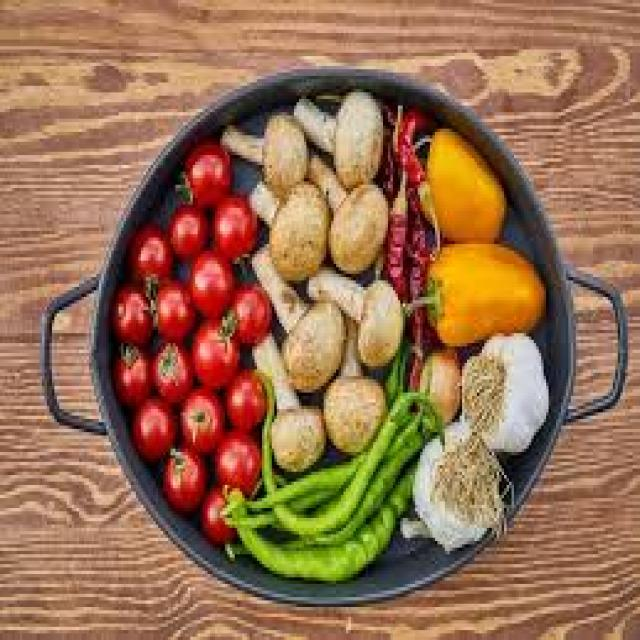organic waste: (254, 366, 445, 528), (222, 455, 418, 584), (225, 435, 425, 538), (403, 234, 541, 343), (247, 241, 344, 389), (395, 412, 497, 544), (455, 323, 546, 452), (245, 326, 321, 468), (412, 125, 502, 238), (304, 261, 400, 366), (289, 82, 381, 185), (319, 314, 385, 456), (304, 152, 383, 270), (247, 175, 326, 277), (218, 106, 306, 194), (230, 455, 353, 508), (393, 105, 437, 241), (170, 135, 230, 211), (403, 205, 427, 389), (415, 346, 460, 429), (188, 313, 240, 383), (210, 192, 255, 268), (220, 271, 267, 343), (146, 274, 195, 343), (183, 244, 230, 314), (178, 383, 222, 455), (128, 396, 176, 462), (222, 366, 270, 429), (383, 165, 405, 300), (106, 280, 153, 340), (165, 201, 208, 264), (210, 429, 255, 488), (126, 221, 171, 280), (198, 482, 240, 541), (148, 336, 188, 396), (163, 445, 200, 508), (111, 340, 148, 399), (380, 99, 396, 188), (383, 353, 398, 402), (222, 538, 255, 558)
